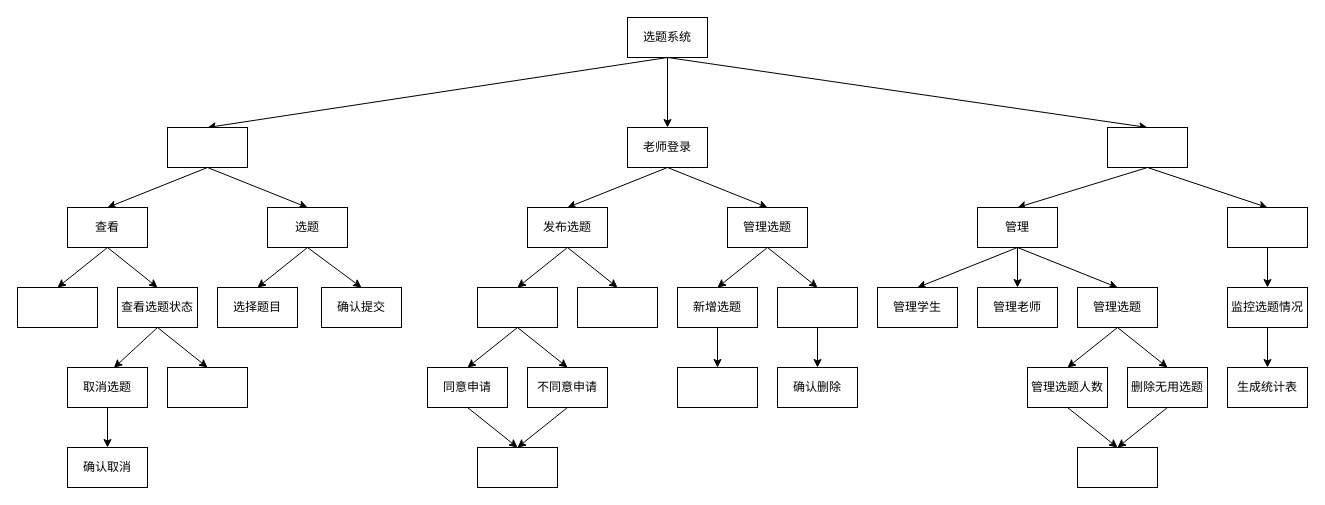
The diagram is 1325 pixels wide and 505 high, and some of its shapes have lost their labels. The shapes that lost their labels are listed below. From the top down, each one's box as (x1, y1, x2, y2) in pixels, then its label:
(166, 126, 248, 168): 学生登陆
(1106, 126, 1188, 168): 管理员登陆
(1226, 206, 1308, 248): 监控
(16, 286, 98, 328): 查看可选选题
(476, 286, 558, 328): 审核学生申请
(576, 286, 658, 328): 管理已选学生
(776, 286, 858, 328): 删除选题
(166, 366, 248, 408): 重新选题
(676, 366, 758, 408): 输入题目
(476, 446, 558, 488): 分配（其他）选题给学生
(1076, 446, 1158, 488): 重新分配人员
